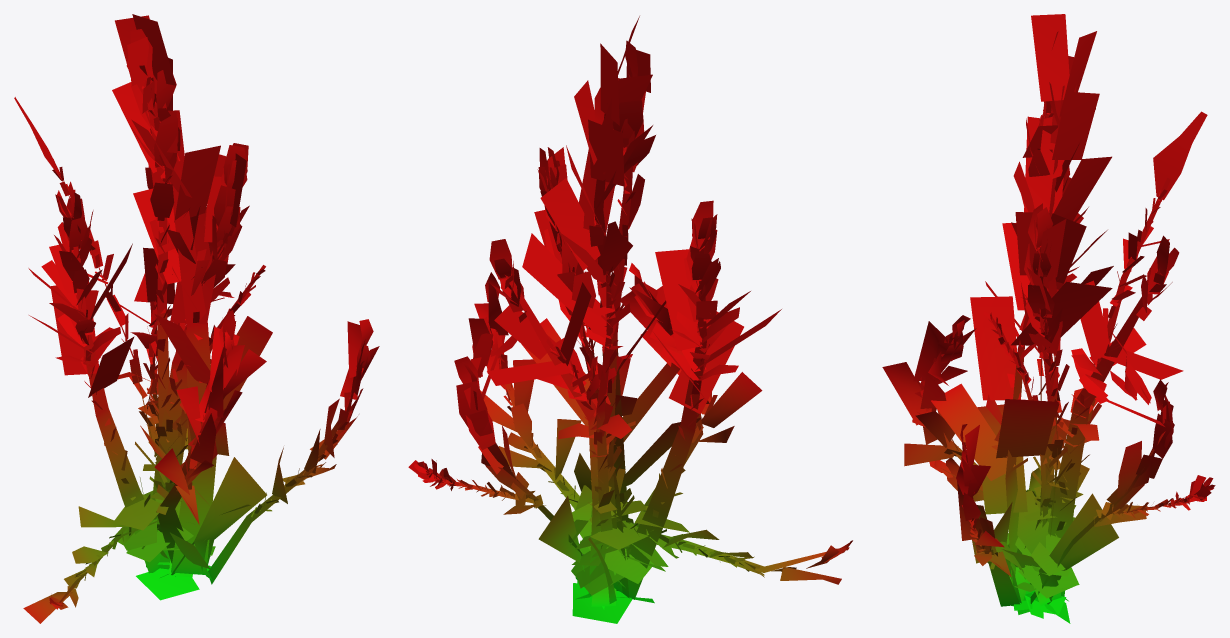
File: Myricaria_LOD2_Var1_tfbldaor.fbx
The picture shows the model from 3 angles, left to right: view 1: azimuth 30°, elevation 25°; view 2: azimuth 150°, elevation 25°; view 3: azimuth 270°, elevation 25°; orthographic projection. The views are drawn at different scales.
Visible parts, largest first — view 1: _3cf8_Var1_LOD2; view 2: _3cf8_Var1_LOD2; view 3: _3cf8_Var1_LOD2.
Boxes of the visible parts, box(x1,y1,x2,y2) form: _3cf8_Var1_LOD2: box(14, 14, 379, 623); _3cf8_Var1_LOD2: box(408, 16, 852, 623); _3cf8_Var1_LOD2: box(882, 14, 1215, 623).
Bounding box in the file's own units: 65.47 × 101 × 52.31.
